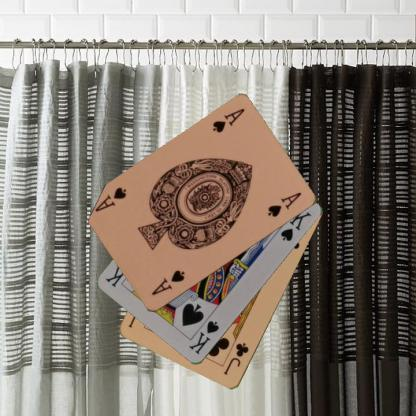As: (148, 268, 186, 297), (210, 106, 246, 134)
Jc: (221, 340, 250, 377)
Ks: (186, 318, 221, 356)
